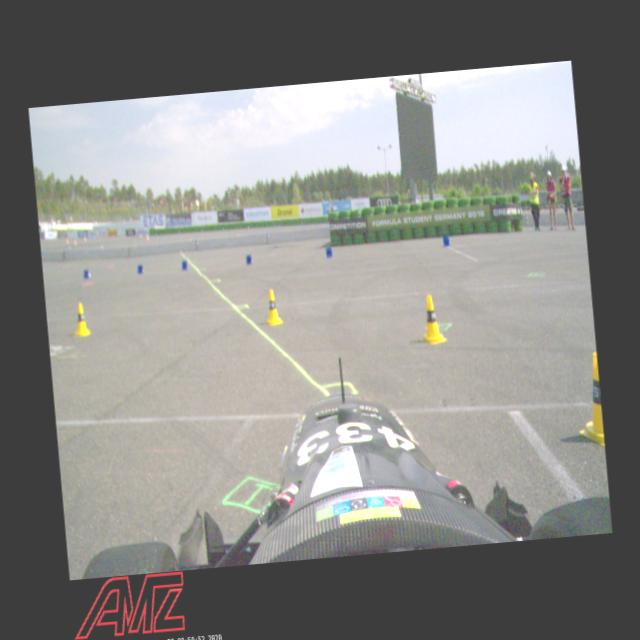blue_cone: (82, 268, 92, 279)
yellow_cone: (574, 351, 604, 448), (418, 292, 447, 344), (262, 287, 283, 326), (70, 302, 90, 338)
